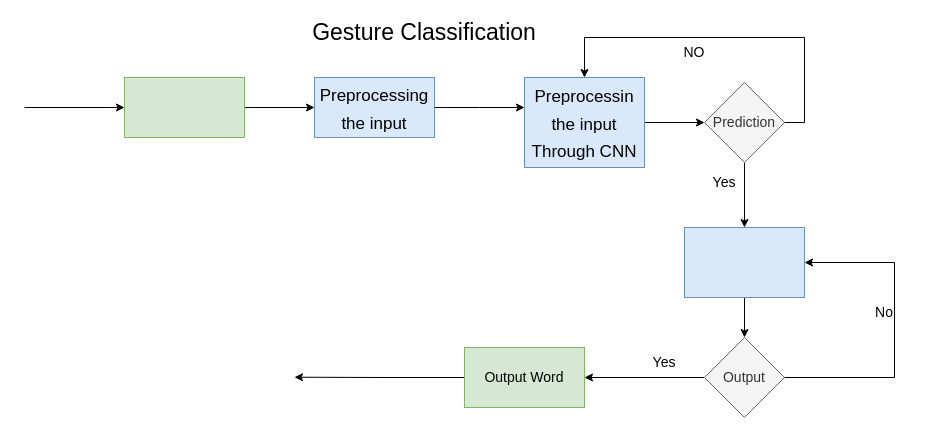
The diagram is 932 pixels wide and 435 high, and some of its shapes have lost their labels. Here are the shapes that lost their labels. From the top down, the centre of each, then its label:
the point at 184,107: Input by the user
the point at 744,262: passing the predicted value through two layer of CNN for better results
